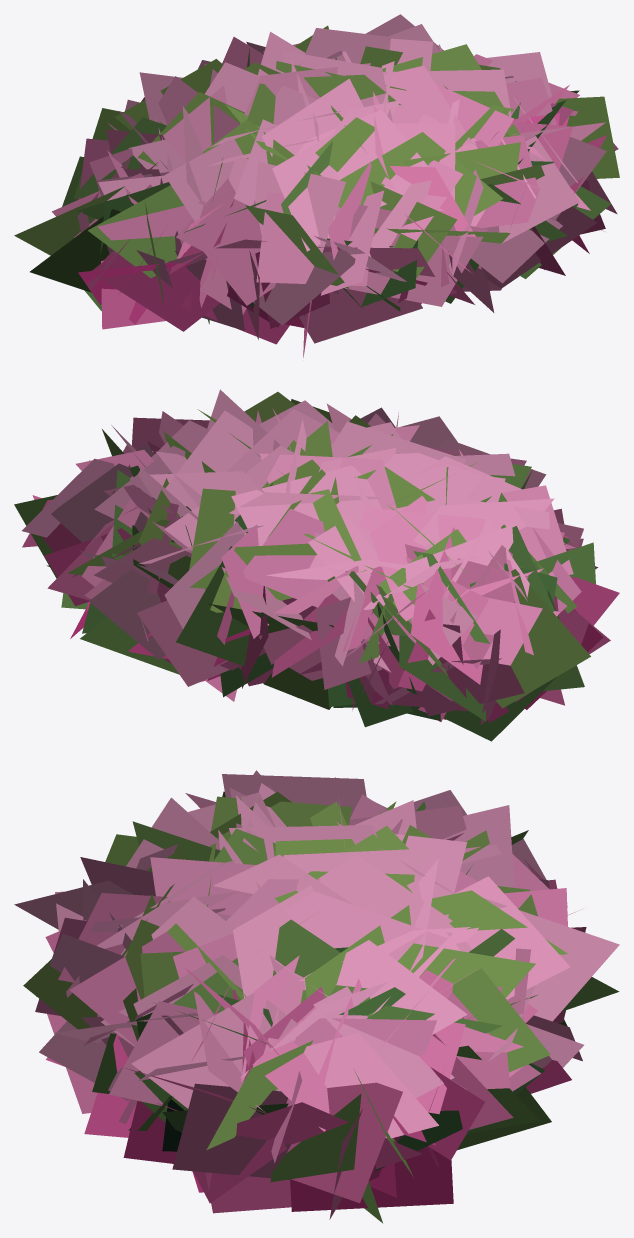
Rendered from Azalea.fbx.
3 renders of one model, top to bottom at view 1: azimuth 30°, elevation 25°; view 2: azimuth 150°, elevation 25°; view 3: azimuth 270°, elevation 25°, orthographic. The views are drawn at different scales.
Visible parts, largest first — view 1: Azalea; view 2: Azalea; view 3: Azalea.
Boxes of the visible parts, bbox=[...] form: Azalea: bbox=[14, 14, 619, 357]; Azalea: bbox=[14, 389, 619, 741]; Azalea: bbox=[14, 770, 619, 1223].
Size of the model in its own units: 2.3 by 0.93 by 1.71.
